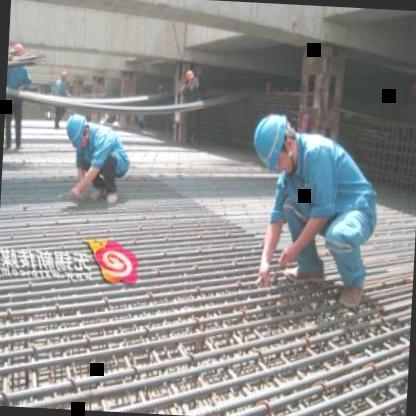helmet: (250, 110, 298, 178), (60, 110, 90, 150)
